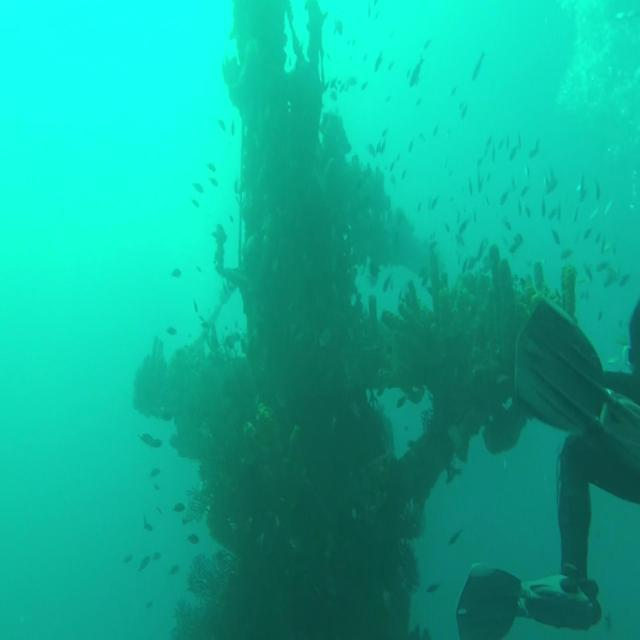human: (456, 294, 639, 636)
